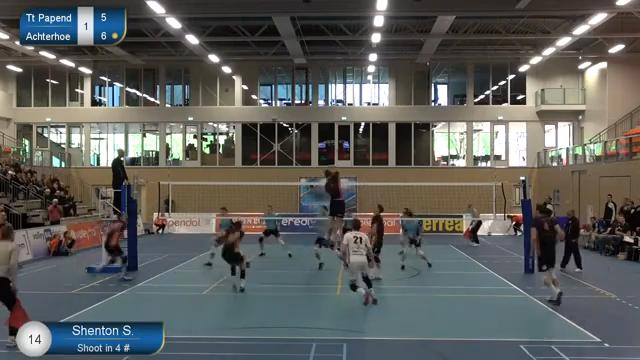Player: (531, 204, 563, 304), (341, 219, 377, 305), (97, 216, 131, 280), (399, 208, 431, 269), (221, 221, 246, 291), (204, 206, 232, 266), (324, 170, 345, 247), (259, 205, 285, 256), (370, 204, 383, 279), (314, 206, 328, 269)
